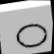no answer: (13, 20, 51, 53)
